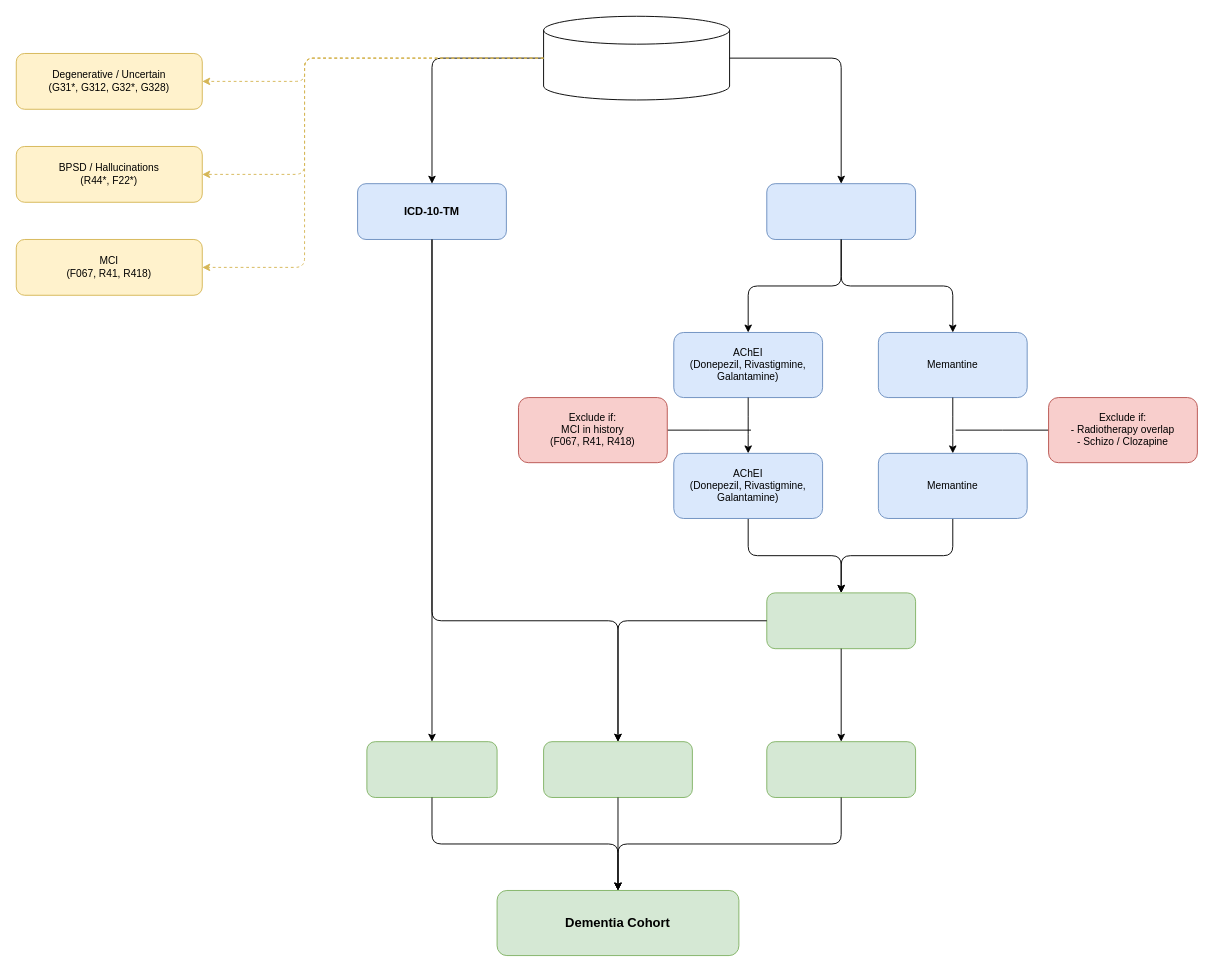
This 1214x972 diagram has some shape labels left out. Each missing label, with the centre of its shape:
Both (ICD + Medication): [617,769]
Hospital Data Warehouse: [636,57]
ICD Only: [431,769]
Inferred Diagnosis (Unspecified): [841,620]
Medication: [841,211]
Medication Only (Inferred): [841,769]
